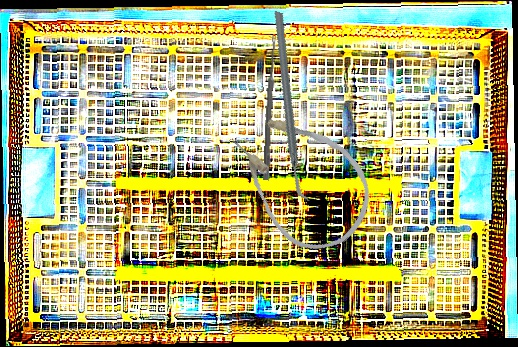Cannula: (212, 88, 391, 269)
Chopper: (223, 10, 361, 202)
Surgical Spoon: (262, 34, 278, 181)
